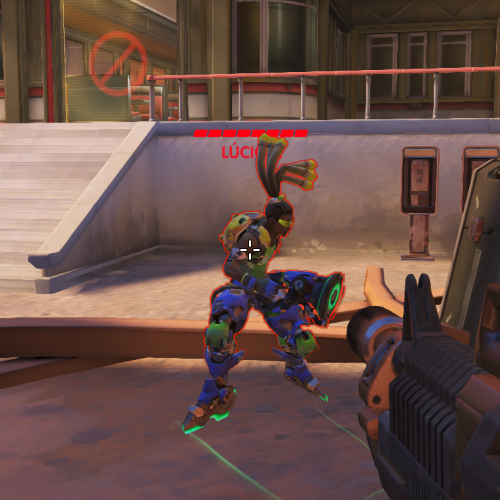hpbar: (193, 128, 309, 138)
